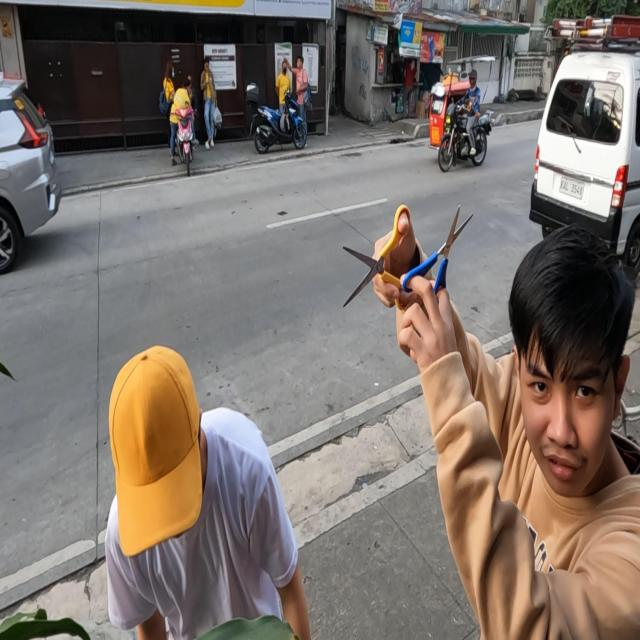scissor: (401, 202, 475, 308), (342, 202, 412, 314)
